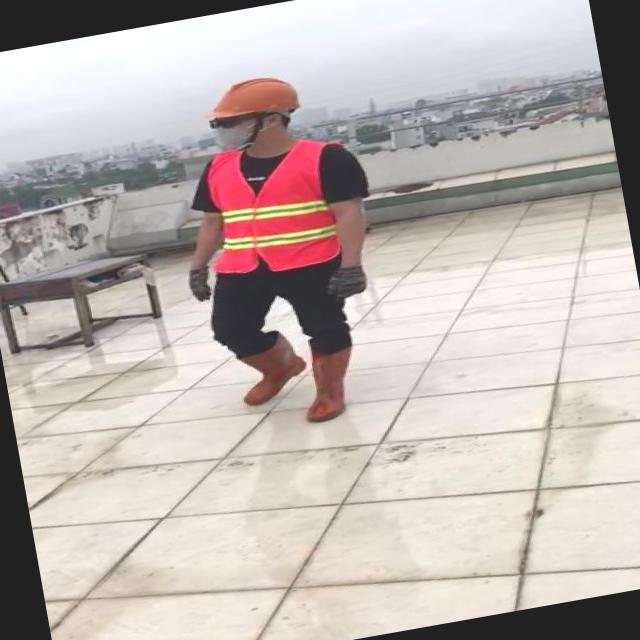boots: (232, 329, 310, 406), (294, 346, 365, 423)
gloves: (322, 240, 372, 305), (181, 258, 226, 320)
helmet: (196, 65, 308, 126)
vest: (191, 135, 354, 282)
